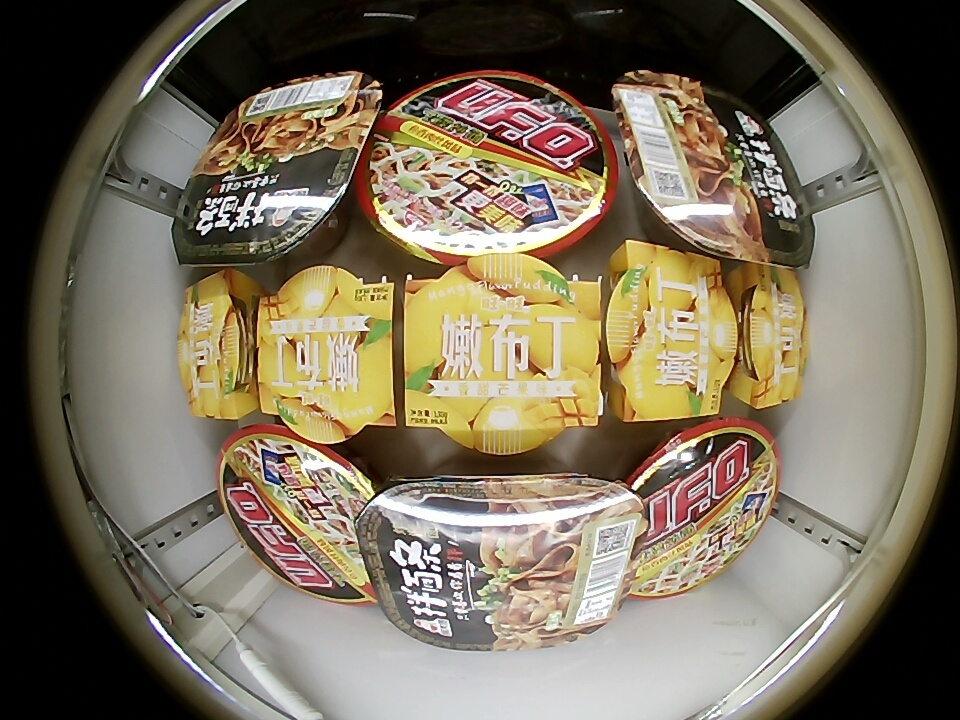buding: (404, 253, 602, 456), (257, 265, 397, 444), (602, 241, 737, 420), (178, 269, 259, 420), (733, 262, 808, 409)
gudasao: (355, 472, 648, 653), (170, 72, 382, 267), (612, 70, 816, 268)
ufo2: (357, 69, 618, 265), (218, 423, 379, 608), (624, 419, 780, 602)
